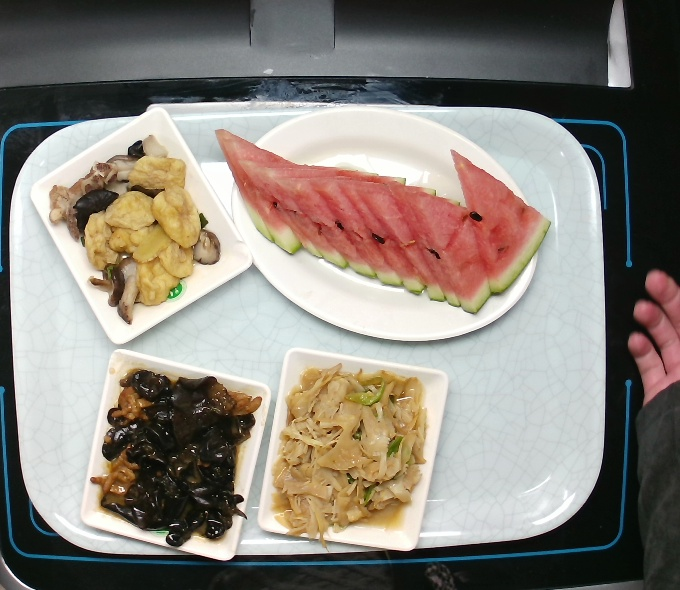wcq-LuSun: (265, 361, 439, 551)
wcq-MuErChaoRou: (103, 367, 246, 539)
wcq-XiGua: (202, 123, 558, 319)
wcq-YouPaoPaiGu: (43, 128, 227, 334)
